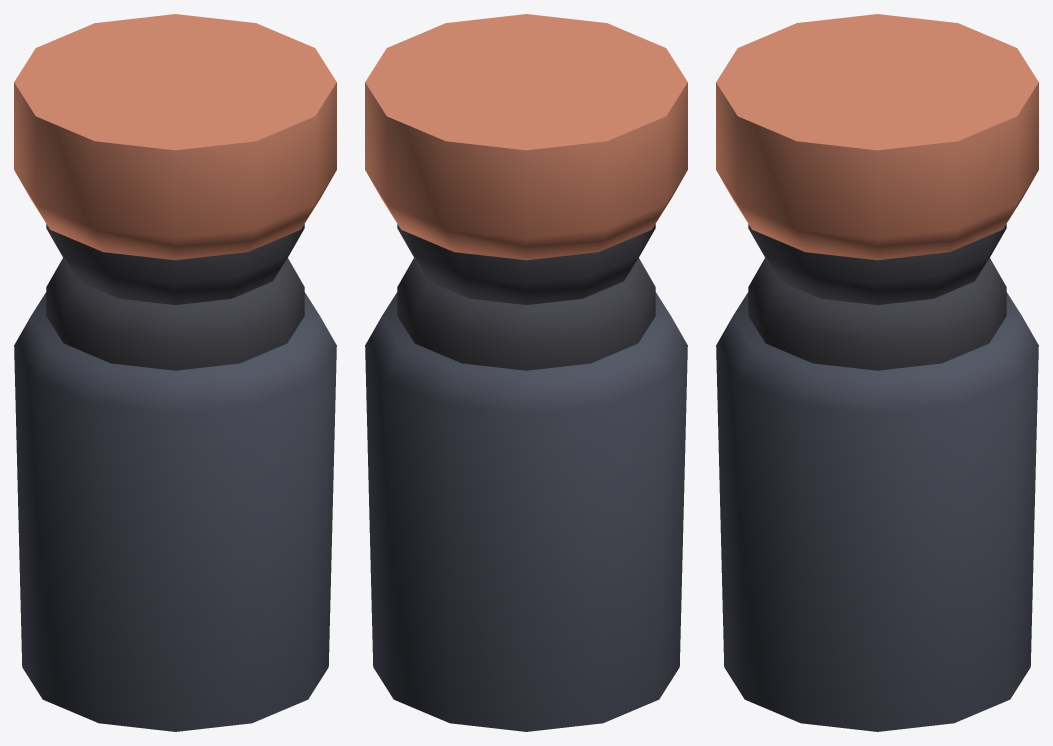
Rendered from piston-thin-round.obj.
The picture shows the model from 3 angles, left to right: view 1: azimuth 30°, elevation 25°; view 2: azimuth 150°, elevation 25°; view 3: azimuth 270°, elevation 25°; orthographic projection.
Visible parts, largest first — view 1: piston-thin-round, top; view 2: piston-thin-round, top; view 3: piston-thin-round, top.
Part boxes in pixels (bbox=[...]): piston-thin-round: bbox=[14, 258, 336, 731]; top: bbox=[14, 14, 336, 304]; piston-thin-round: bbox=[365, 258, 687, 731]; top: bbox=[365, 14, 687, 304]; piston-thin-round: bbox=[716, 258, 1038, 731]; top: bbox=[716, 14, 1038, 304].
Bounding box in the file's own units: 0.5 × 1 × 0.5.
